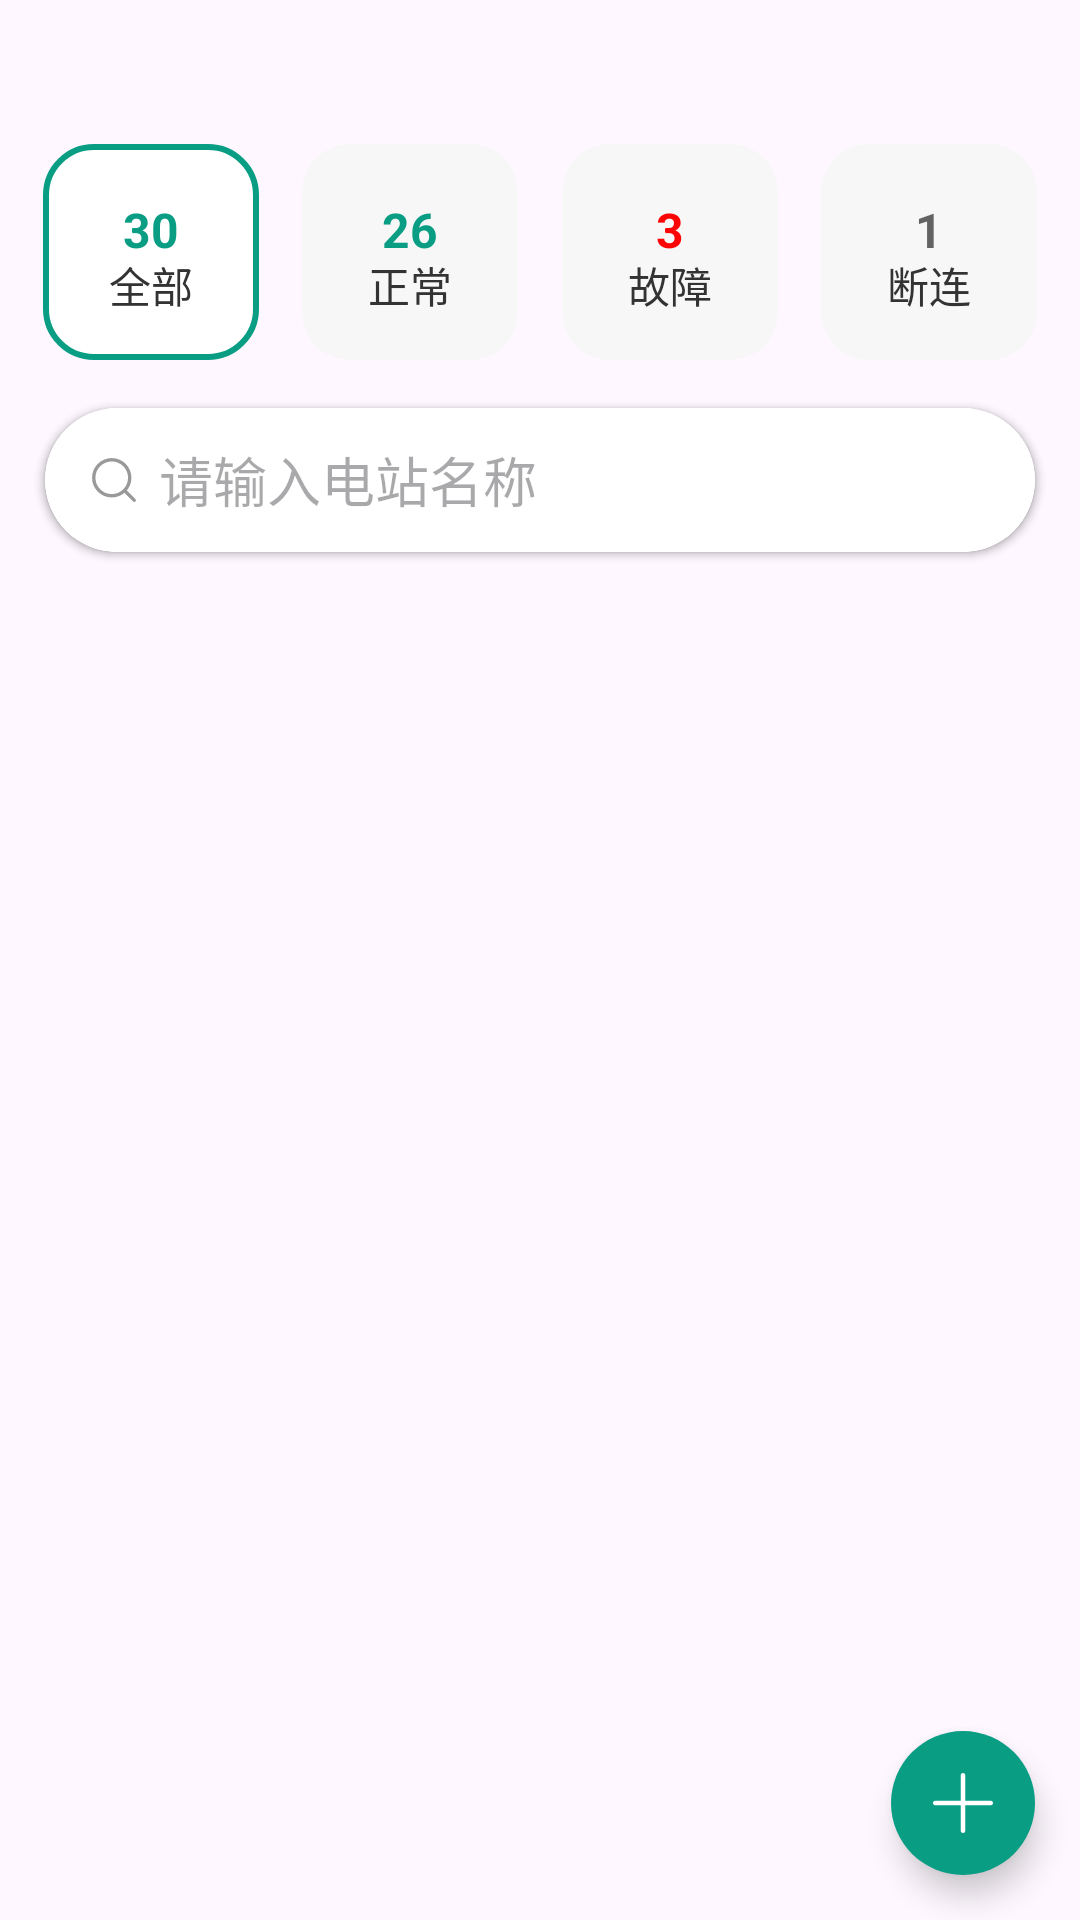

Screen size 1080 × 1920. Icon name, then its box in pixels as (x1, y1, x2, y2):
add: (891, 1731, 1035, 1875)
